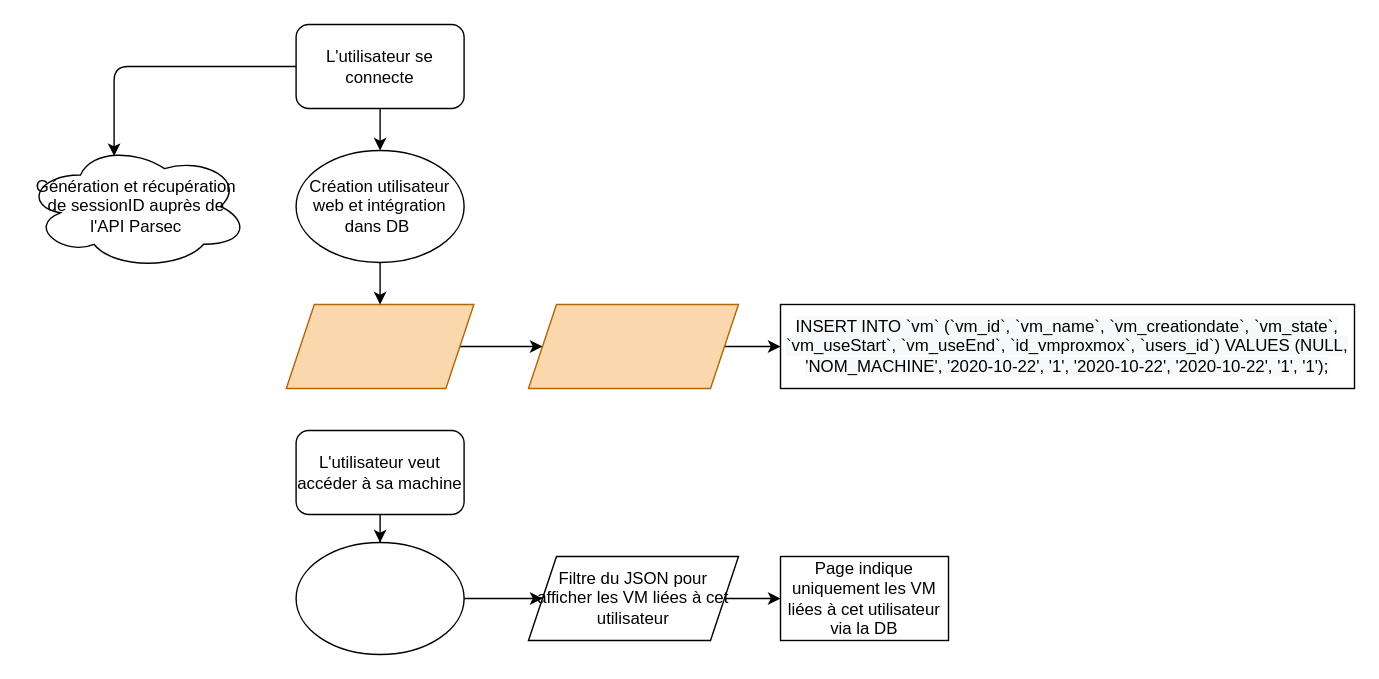
Image size: 1379x679. Some labels were removed from this diagram. The shapes that lost their labels are listed below. From the top down, each one's box as (x1, y1, x2, y2) in pixels, then its label:
(285, 303, 474, 388): Admin change le nom de la machine à la main
(527, 303, 738, 388): Admin lie le nom de la machine à un user via son panel Admin
(295, 541, 464, 654): Accède à la page de connexion à sa VM
